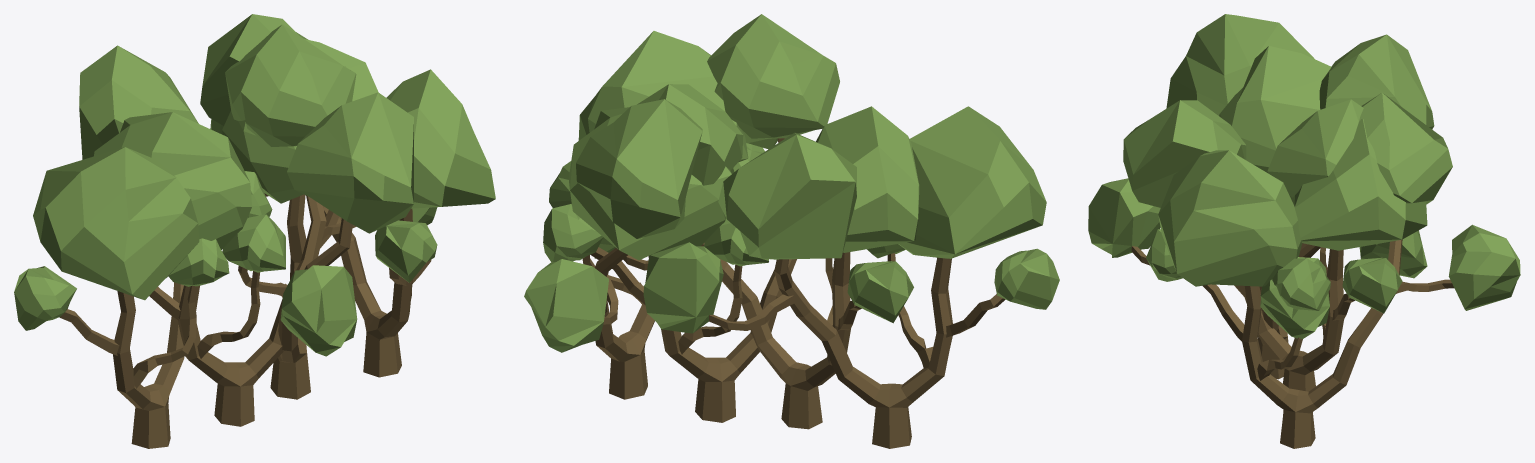
Rendered from Trees.fbx.
3 views of the same model, side by side, from view 1: azimuth 30°, elevation 25°; view 2: azimuth 150°, elevation 25°; view 3: azimuth 270°, elevation 25° (orthographic). The views are drawn at different scales.
Parts seen in each view (by area): view 1: pasted__pSphere15; view 2: pasted__pSphere15; view 3: pasted__pSphere15.
Boxes of the visible parts, bbox=[...] form: pasted__pSphere15: bbox=[14, 14, 495, 448]; pasted__pSphere15: bbox=[524, 14, 1059, 448]; pasted__pSphere15: bbox=[1088, 14, 1520, 448].
Bounding box in the file's own units: 382 × 272 × 340.
